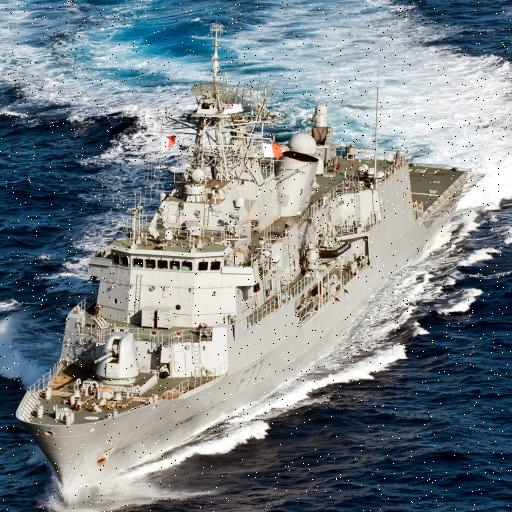Fragata: (4, 22, 493, 512)
